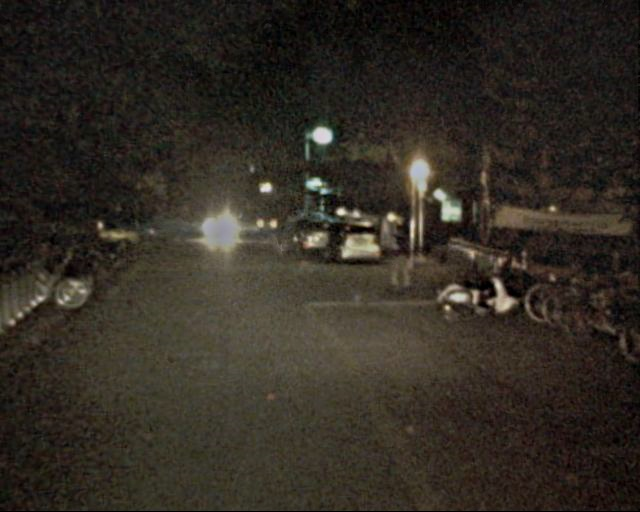person: (385, 223, 415, 297)
